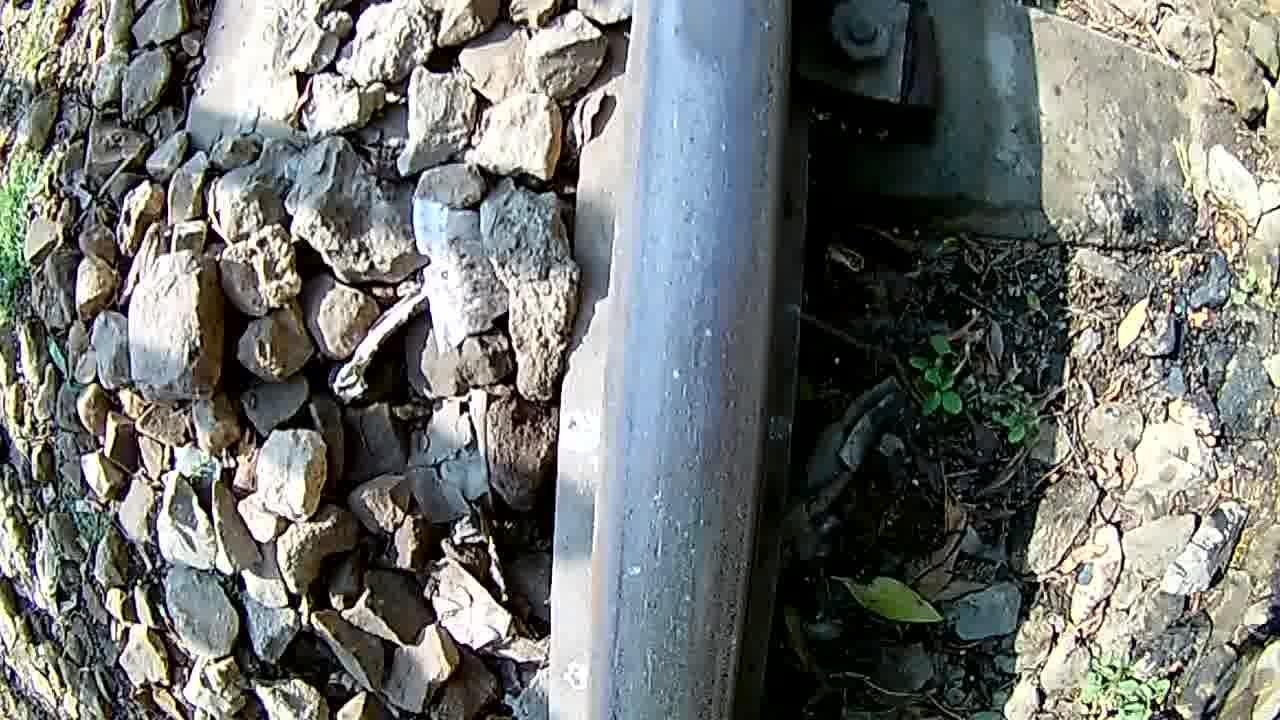bolt_missing: (639, 0, 804, 112)
